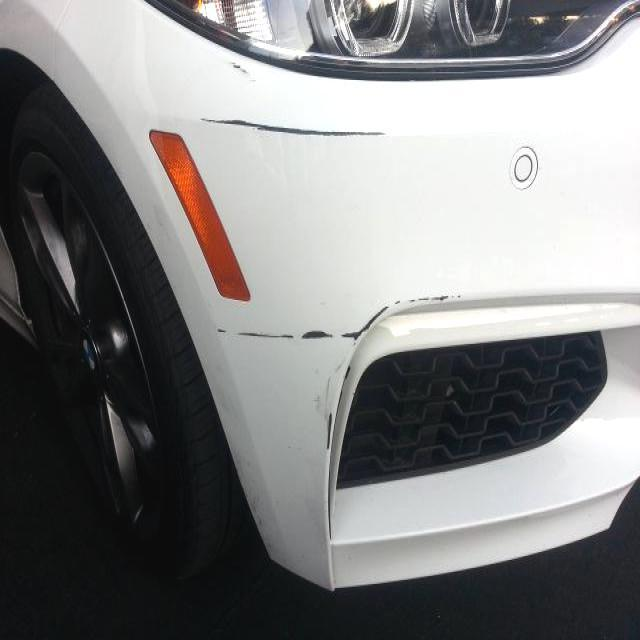minor: (322, 408, 333, 461)
moderate: (206, 291, 467, 348), (193, 97, 396, 150), (231, 64, 244, 76)
